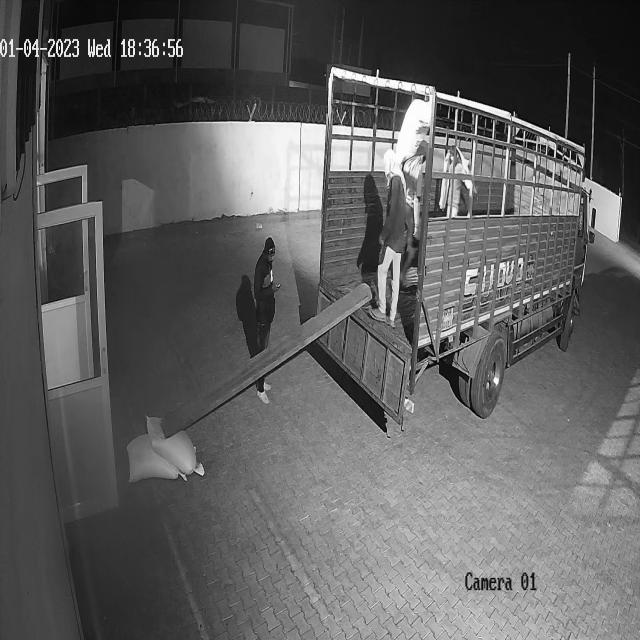sack: (146, 413, 203, 476), (126, 434, 186, 482), (393, 95, 434, 160)
